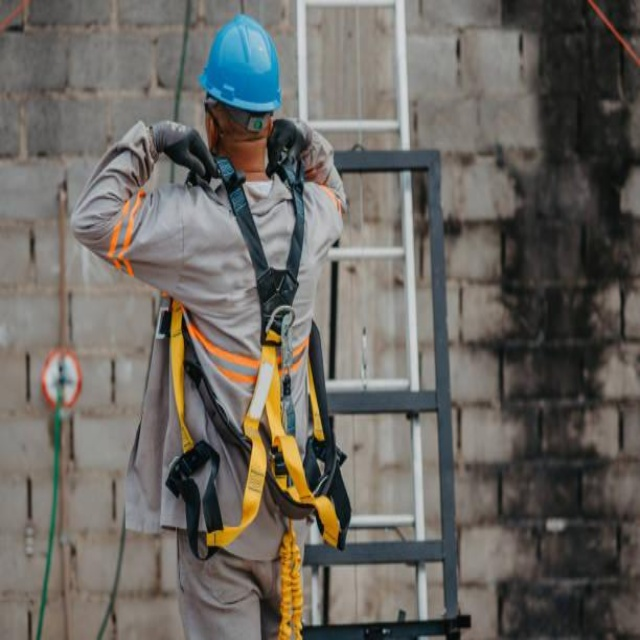Arnes_seguridad: (187, 161, 341, 559)
